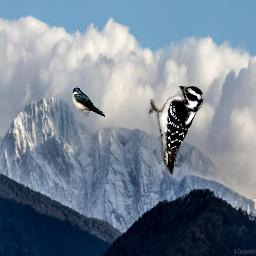Swallow: (72, 87, 106, 117)
Woodpecker: (149, 86, 204, 177)
